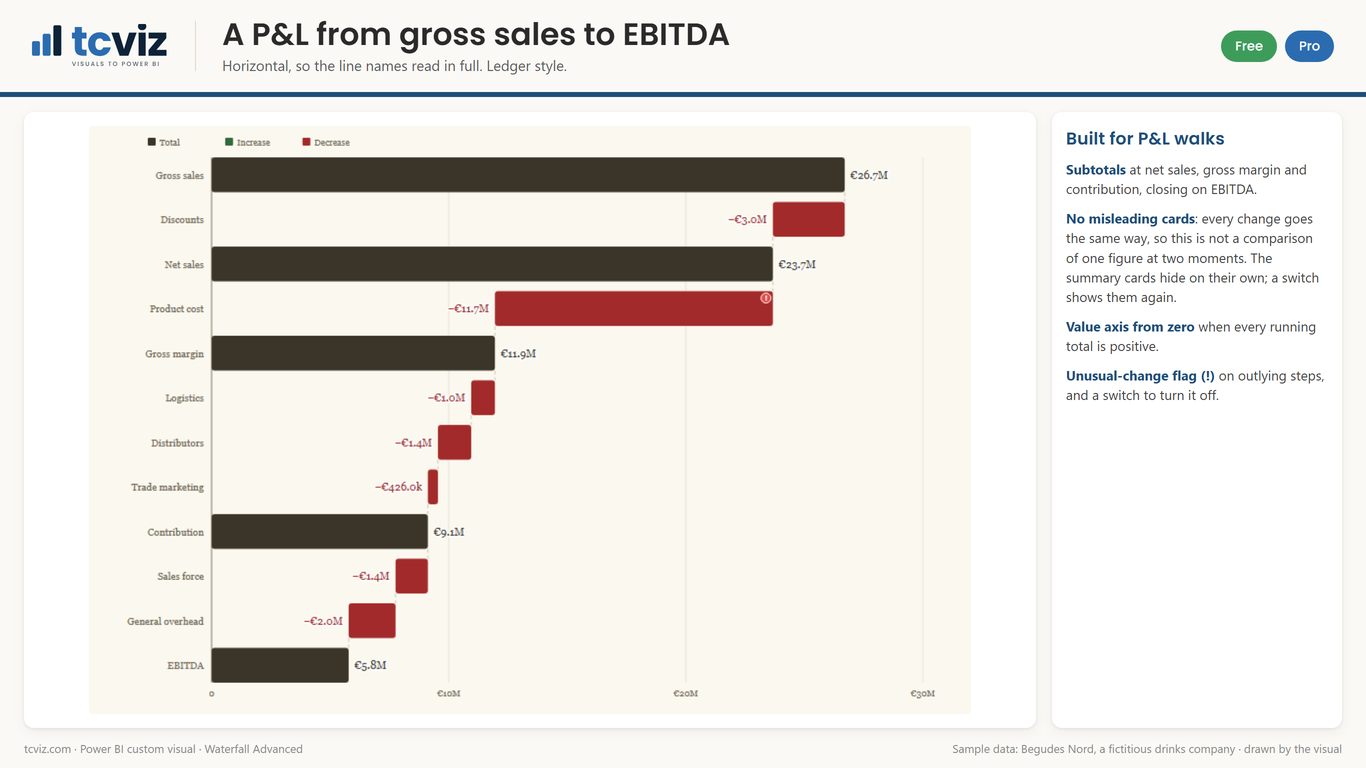

The dashboard page shown, as its layout file describes it:
{"tool":"powerbi","page":{"name":"Page 2","canvas":[1280,720],"ordinal":1},"visuals":[{"type":"WaterfallAdvanced285e2ced869b4cbaaff42317a24068cc","fields":{"category":["test-data.Categoria"],"sortOrder":["test-data.Orden"],"target":["Sum(test-data.Target)"],"barType":["Min(test-data.TipoBarra)"],"measure":["Sum(test-data.Valor)"]},"box":[14.9,11.5,1243.2,689.4],"z":0}]}

Visuals, with their boxes in screenshot pixels (x1, y1, x2, y2), scaled from the page's 1280x720 canvas onto the 1366x768 screenshot:
WaterfallAdvanced285e2ced869b4cbaaff42317a24068cc - test-data.Categoria x test-data.Orden: [x1=16, y1=12, x2=1343, y2=748]
